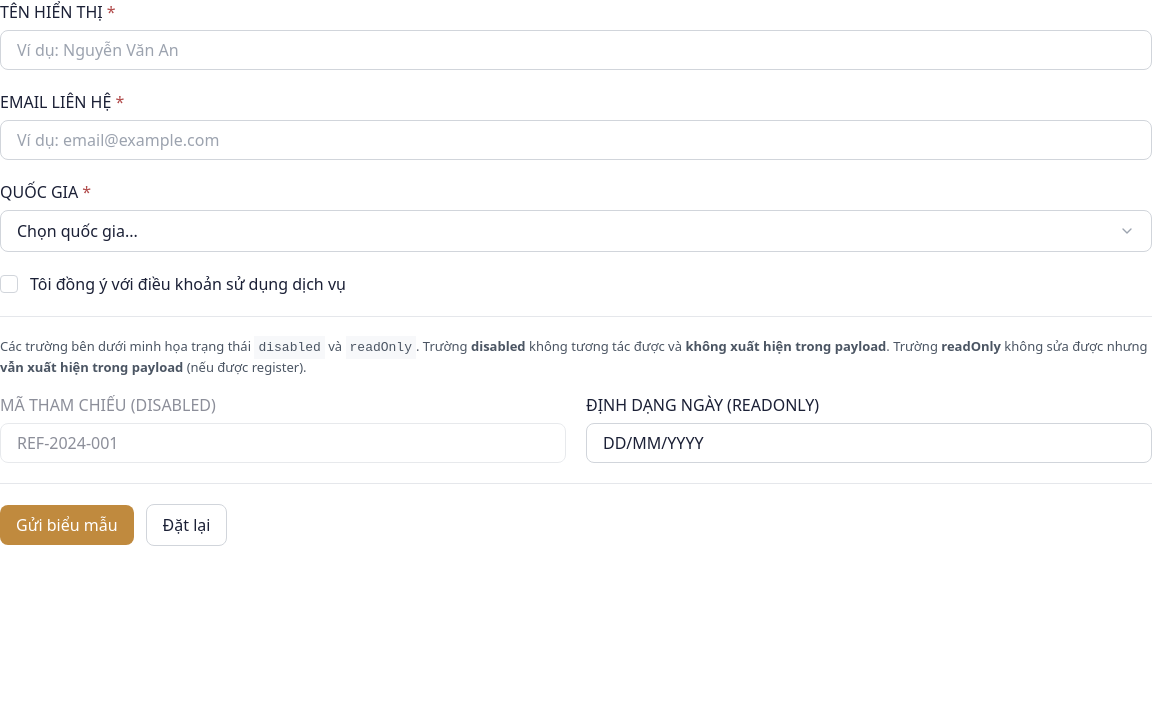
Test: FormFoundationDemo › §9.10 valid submit — shows submit-result panel
The width and height of the screenshot is (1152, 720).
Type "Nguyễn An" into the field labelled "Tên hiển thị *" at (576, 50), box left=1, top=31, right=1151, bottom=69
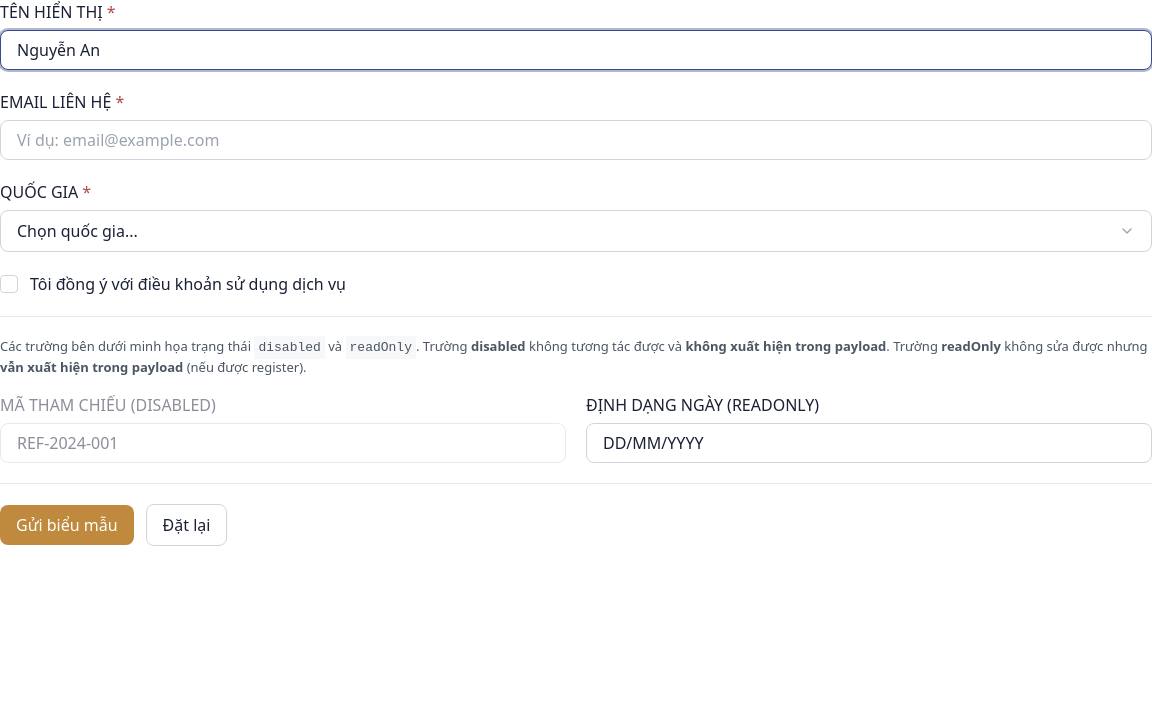
Type "test@example.com" into the field labelled "Email liên hệ *" at (576, 140), box left=1, top=121, right=1151, bottom=159
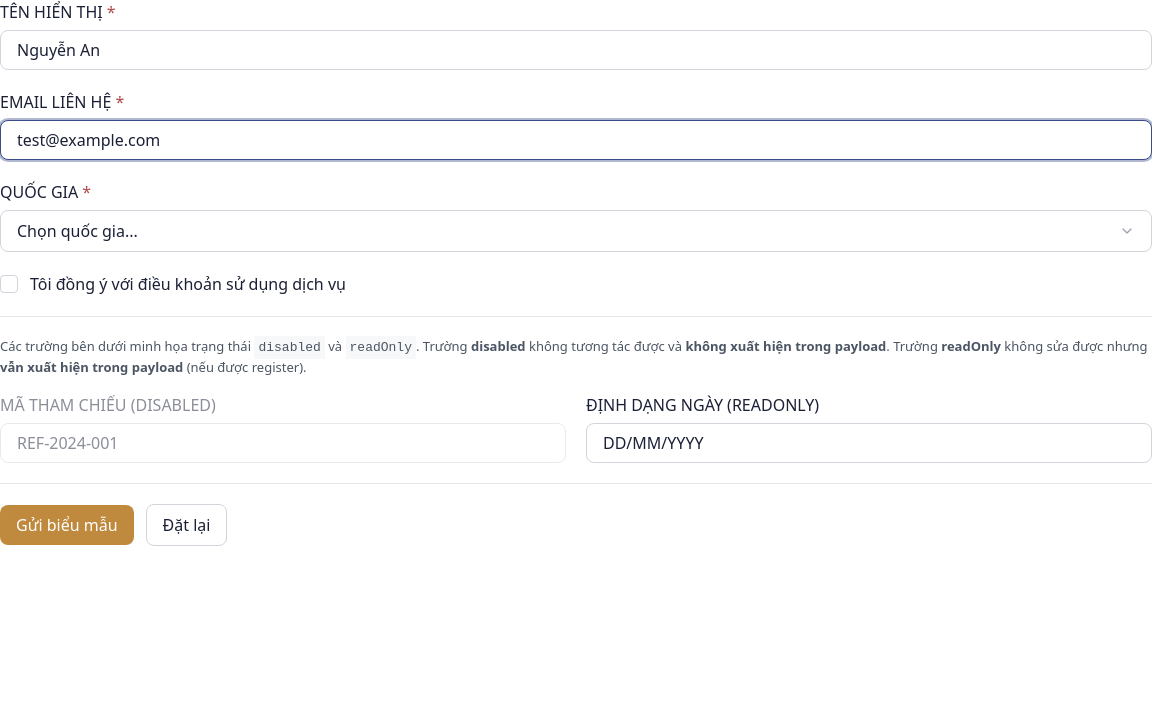
Select "Việt Nam" in the dropdown with test id "native-select" at (46, 192), box left=0, top=181, right=91, bottom=203
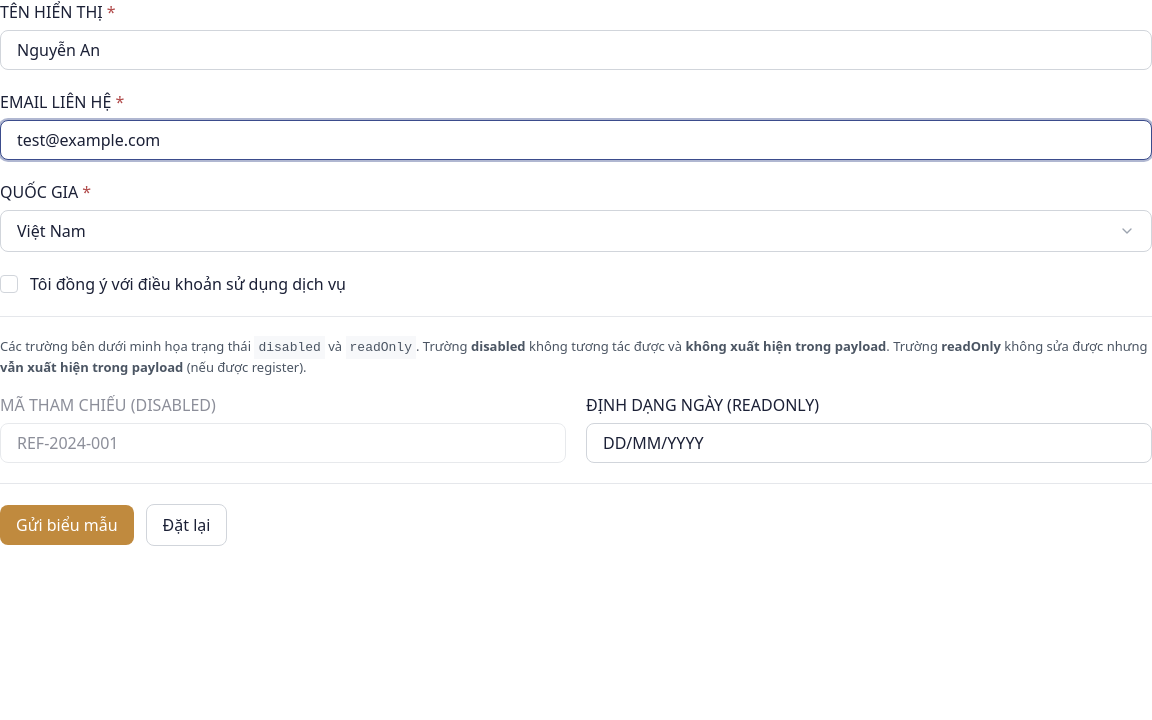
Click the checkbox labelled "Tôi đồng ý với điều khoản sử dụng dịch vụ" at (188, 284), box left=30, top=272, right=346, bottom=296
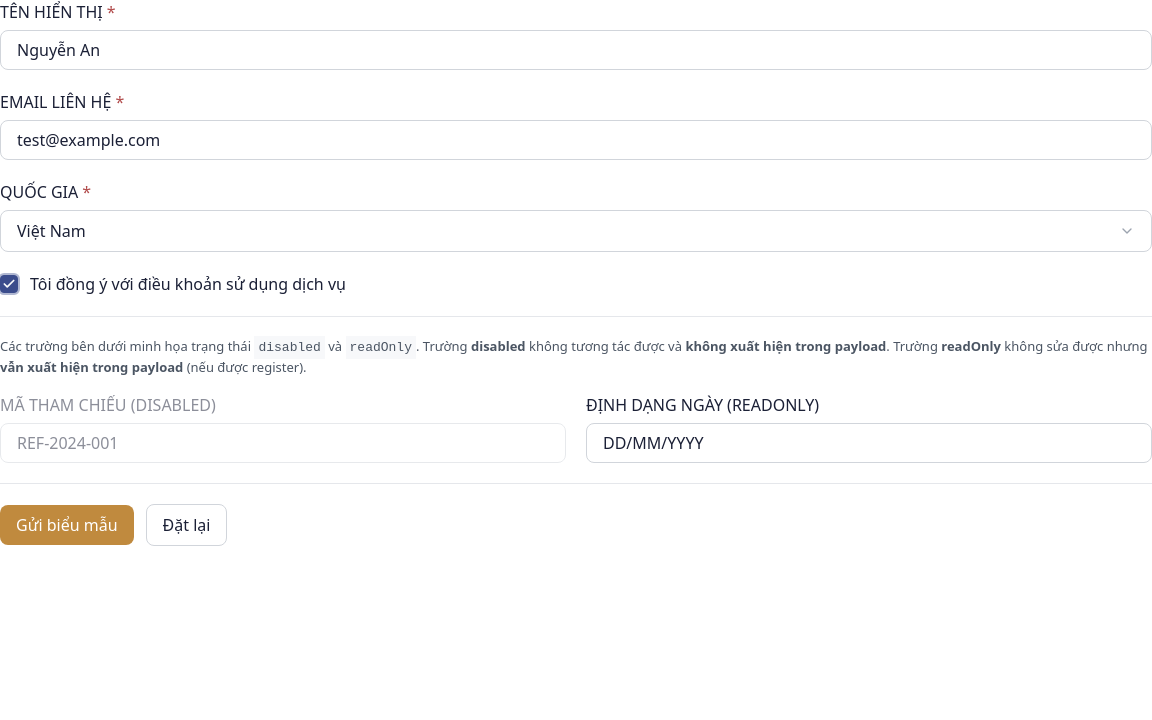
Click the button "Gửi biểu mẫu" at (67, 525), box left=0, top=505, right=134, bottom=545
(page scrolled)
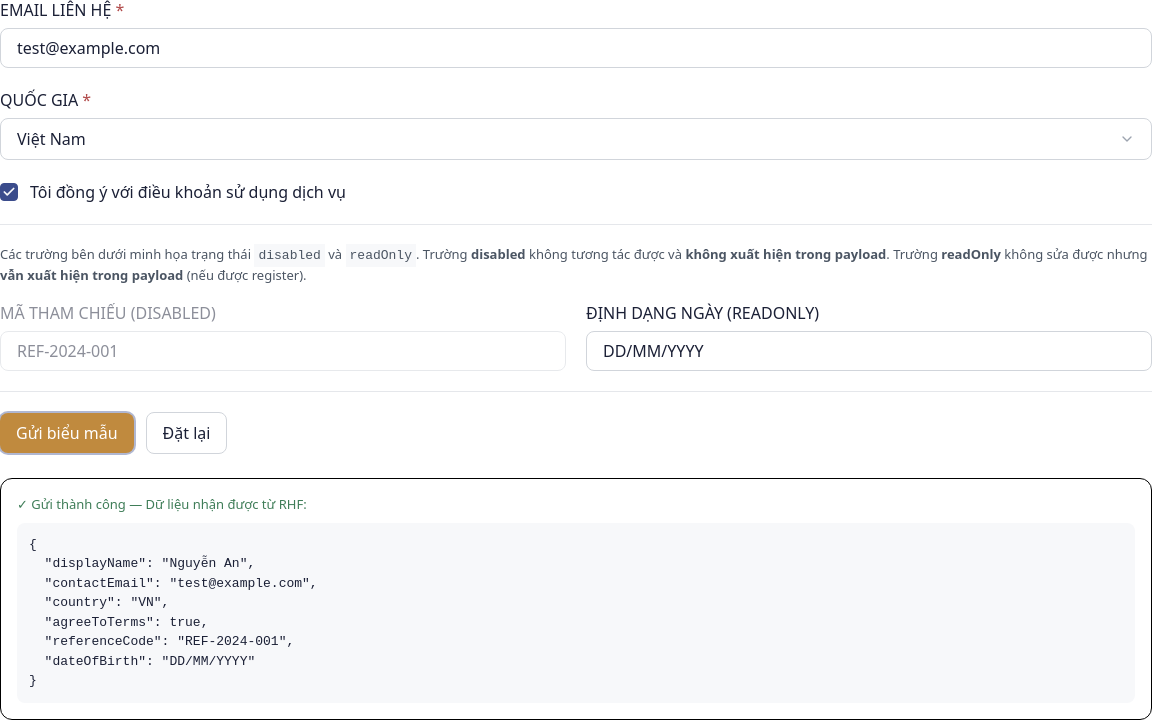
Check: the element with test id "submit-result" is shown, box left=0, top=478, right=1151, bottom=719
Check: the element with test id "submit-result" shows "Gửi thành công", box left=17, top=495, right=307, bottom=513
